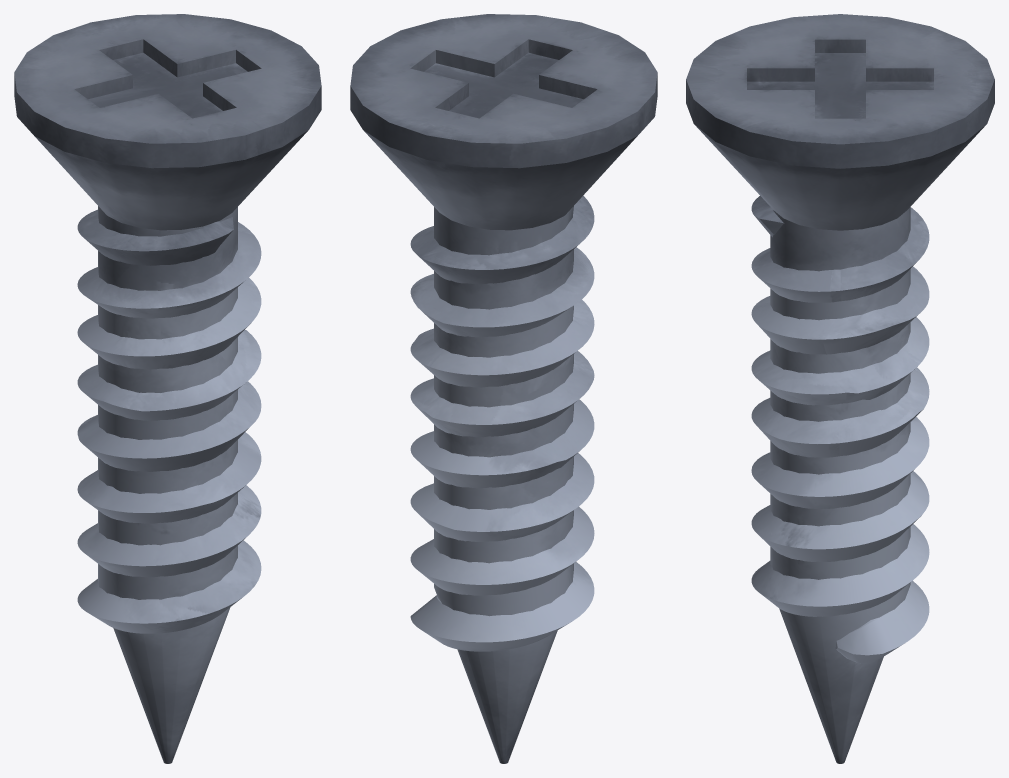
The model's file is Screw_Model.fbx.
The picture shows the model from 3 angles, left to right: view 1: azimuth 30°, elevation 25°; view 2: azimuth 150°, elevation 25°; view 3: azimuth 270°, elevation 25°; orthographic projection.
Visible parts, largest first — view 1: pCylinder4; view 2: pCylinder4; view 3: pCylinder4.
Part boxes in pixels (bbox=[...]): pCylinder4: bbox=[14, 14, 321, 763]; pCylinder4: bbox=[350, 14, 657, 763]; pCylinder4: bbox=[686, 14, 994, 763].
Size of the model in its own units: 3.81 by 9.3 by 3.81.
Materials: 1 (1 with a texture image).
